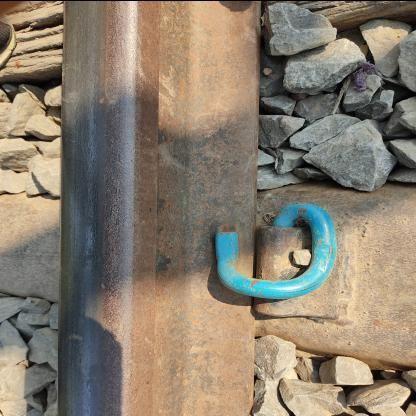Non Defective 1: (52, 103, 209, 257)
